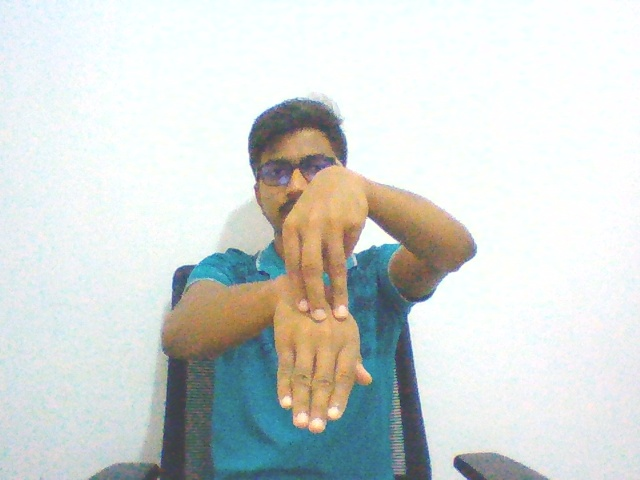papaya: (260, 160, 376, 442)
